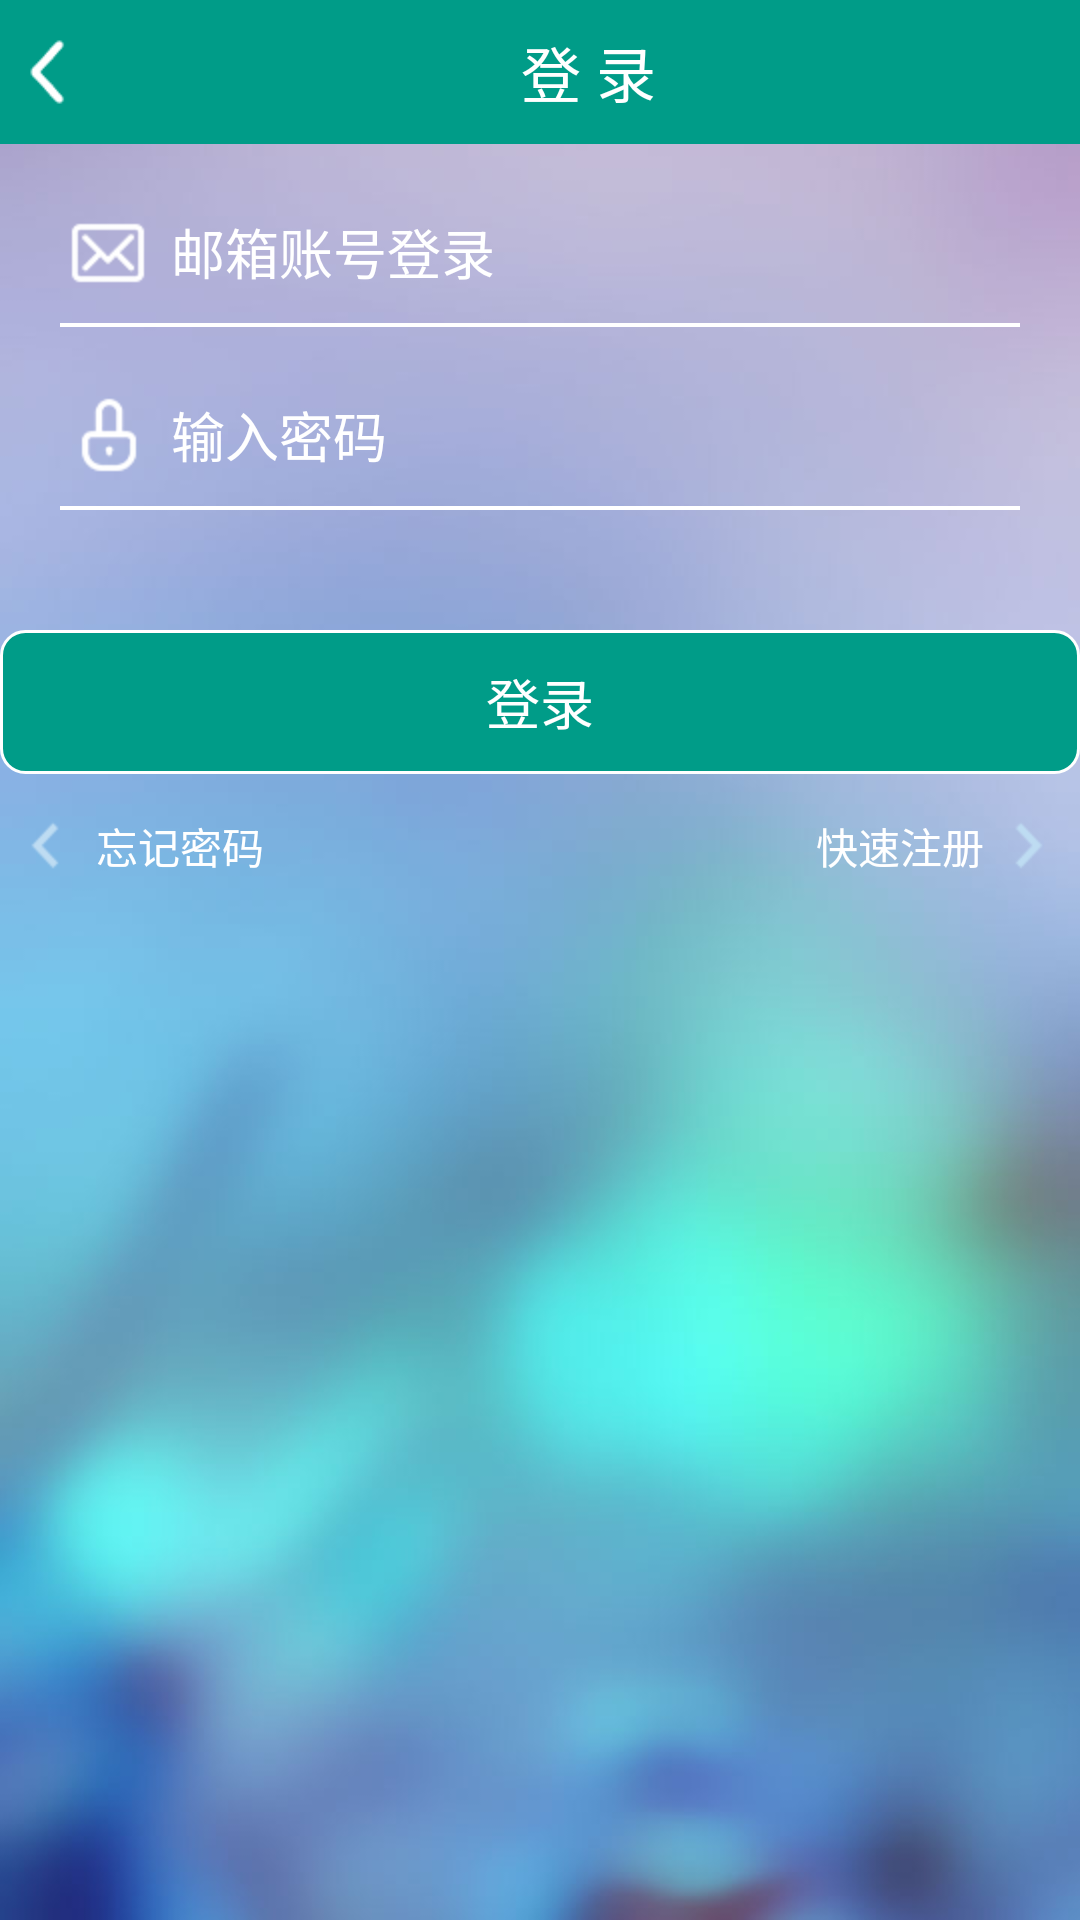

Icon click points for this 1080×1920 phone screenshot, format point (x, y):
back arrow: point (47, 72)
